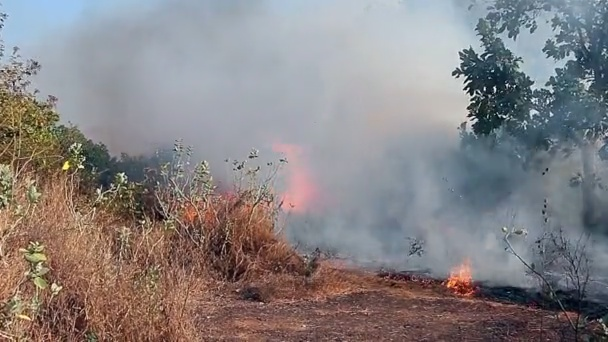fire: (447, 269, 473, 292), (62, 161, 69, 169)
